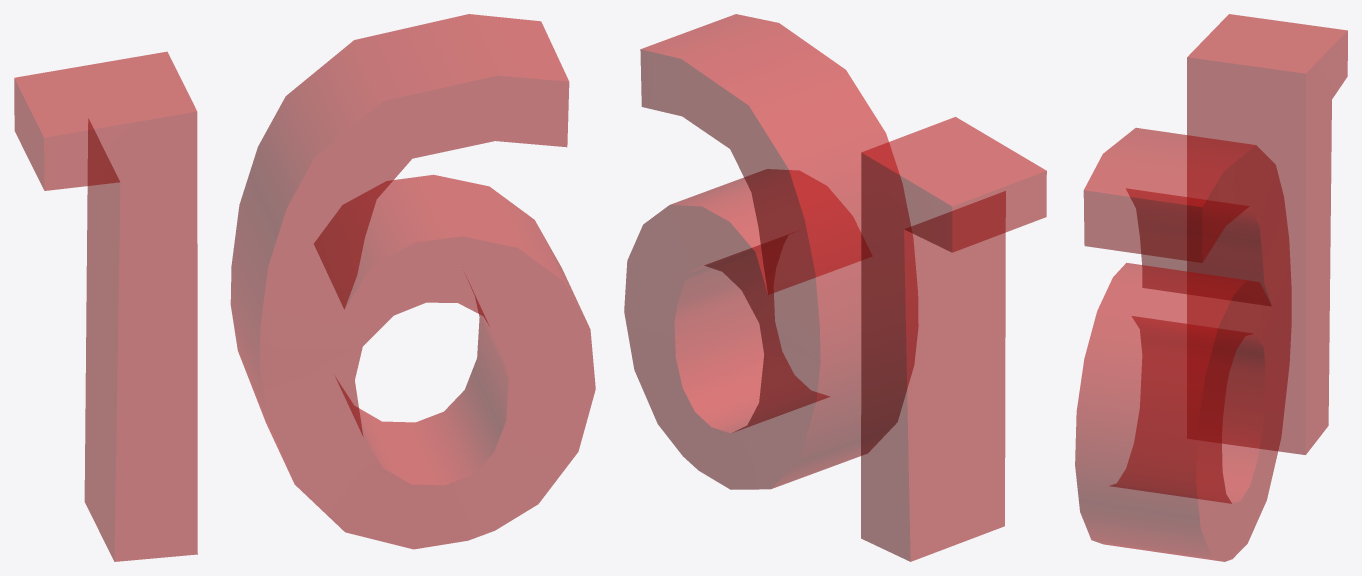
Rendered from Sixteen_Highlight.gltf.
3 renders of one model, left to right at view 1: azimuth 30°, elevation 25°; view 2: azimuth 150°, elevation 25°; view 3: azimuth 270°, elevation 25°, orthographic. The views are drawn at different scales.
Visible parts, largest first — view 1: Six2, One11; view 2: Six2, One11; view 3: Six2, One11.
Part boxes in pixels (<box>): Six2: <box>230,14,595,549</box>; One11: <box>14,51,197,561</box>; Six2: <box>624,14,918,489</box>; One11: <box>861,117,1046,561</box>; Six2: <box>1075,128,1291,561</box>; One11: <box>1187,14,1347,454</box>.
Size of the model in its own units: 0.8947 by 0.7923 by 0.4874.
